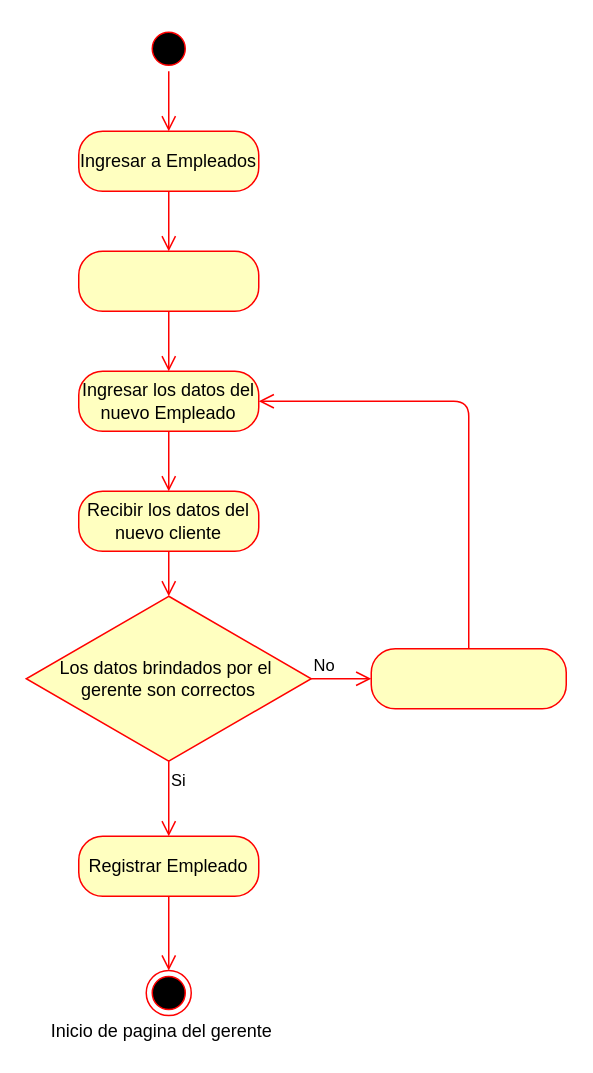
The diagram is 593 pixels wide and 1073 high, and some of its shapes have lost their labels. The box of each missing label's shape, as (x1, y1, x2, y2) in pixels:
Mostrar mensaje de de los datos ingresados son erróneos: (370, 647, 566, 709)
Seleccionar nuevo Empleado: (77, 250, 259, 311)
